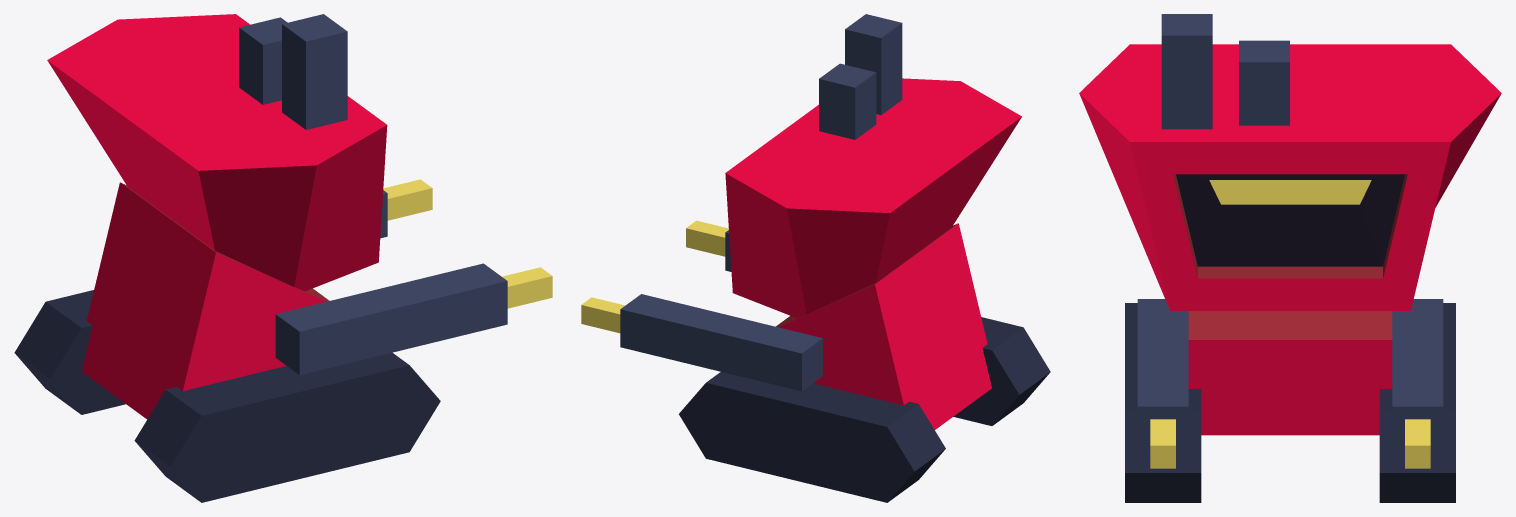
File: walk_easydrone.fbx
The picture shows the model from 3 angles, left to right: view 1: azimuth 30°, elevation 25°; view 2: azimuth 150°, elevation 25°; view 3: azimuth 270°, elevation 25°; orthographic projection. The views are drawn at different scales.
Visible parts, largest first — view 1: Cube.006; view 2: Cube.006; view 3: Cube.006.
Part boxes in pixels (x1,y1,x2,y2): Cube.006: (14,14,552,502); Cube.006: (581,14,1050,502); Cube.006: (1079,14,1501,502).
Bounding box in the file's own units: 379 × 385 × 332.
